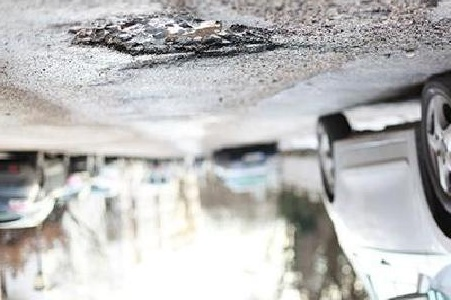pothole: (67, 10, 281, 73)
